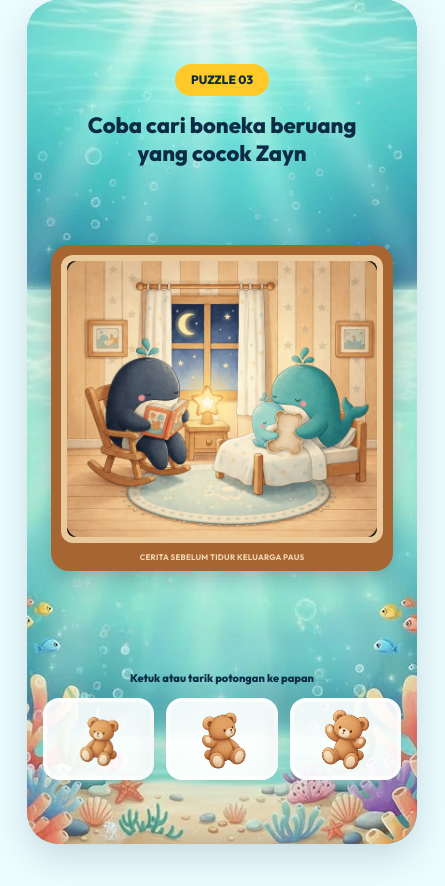
Test: TeddyPuzzleScreen › menampilkan completed board dan audio benar untuk teddy duduk
The image size is (445, 886).
Click the button named "pilih teddy duduk" at (99, 739), box [43,698,154,780]
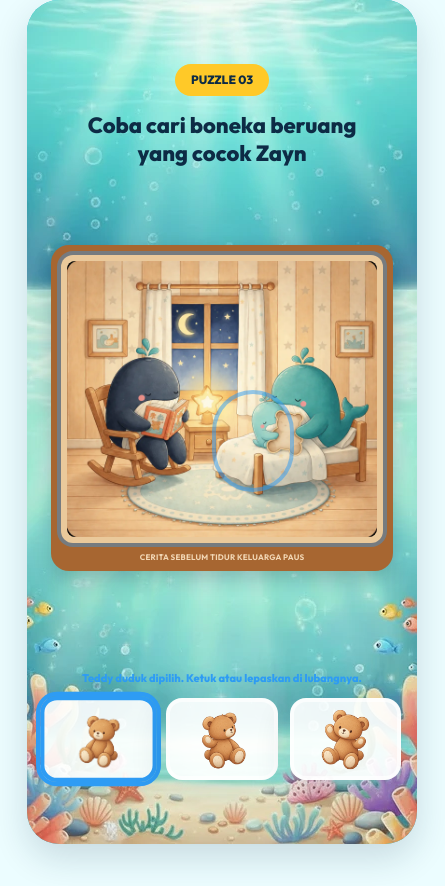
Expected: the button named "pilih teddy duduk" is pressed, [40,696,157,782]
Click the button named "pasang teddy ke papan puzzle" at (222, 399), box [61,255,383,543]
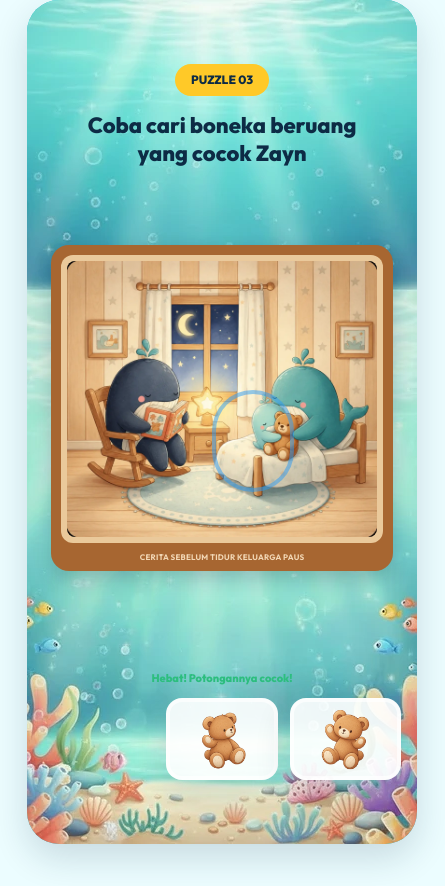
Expected: the message shows "Potongannya cocok", [152,670,293,684]
Expected: the button named "papan puzzle teddy lengkap" is disabled, [61,255,383,543]
